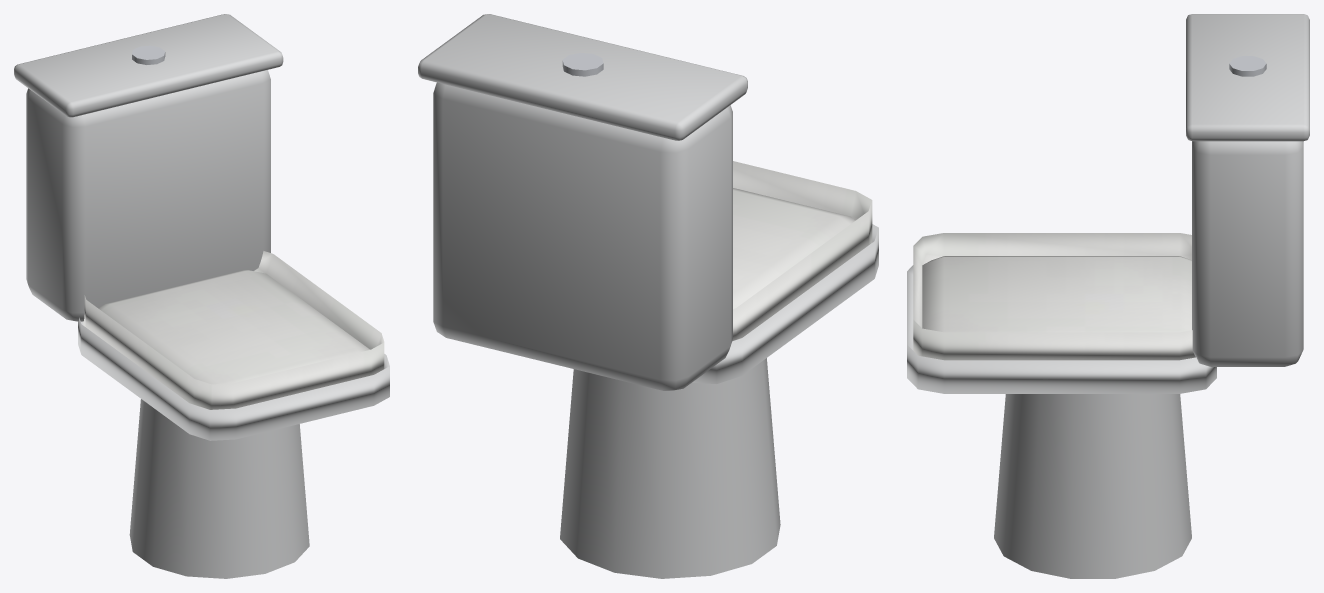
3 views of the same model, side by side, from view 1: azimuth 30°, elevation 25°; view 2: azimuth 150°, elevation 25°; view 3: azimuth 270°, elevation 25° (orthographic). The views are drawn at different scales.
Parts seen in each view (by area): view 1: Decor_toilet; view 2: Decor_toilet; view 3: Decor_toilet.
Part boxes in pixels (bbox=[...]): Decor_toilet: bbox=[14, 14, 389, 578]; Decor_toilet: bbox=[418, 14, 878, 578]; Decor_toilet: bbox=[907, 14, 1309, 578].
Bounding box in the file's own units: 0.44 × 0.845 × 0.65.
Materials: 3 (1 with a texture image).
